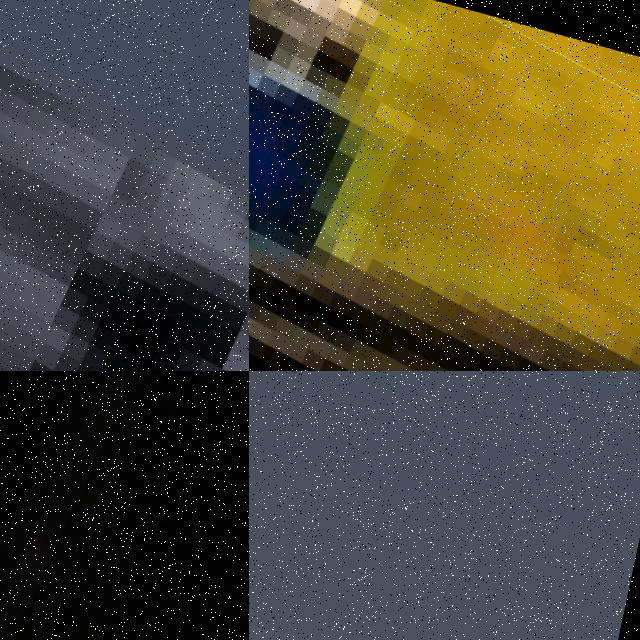drone: (249, 0, 640, 371), (0, 0, 249, 371), (0, 371, 249, 640)
